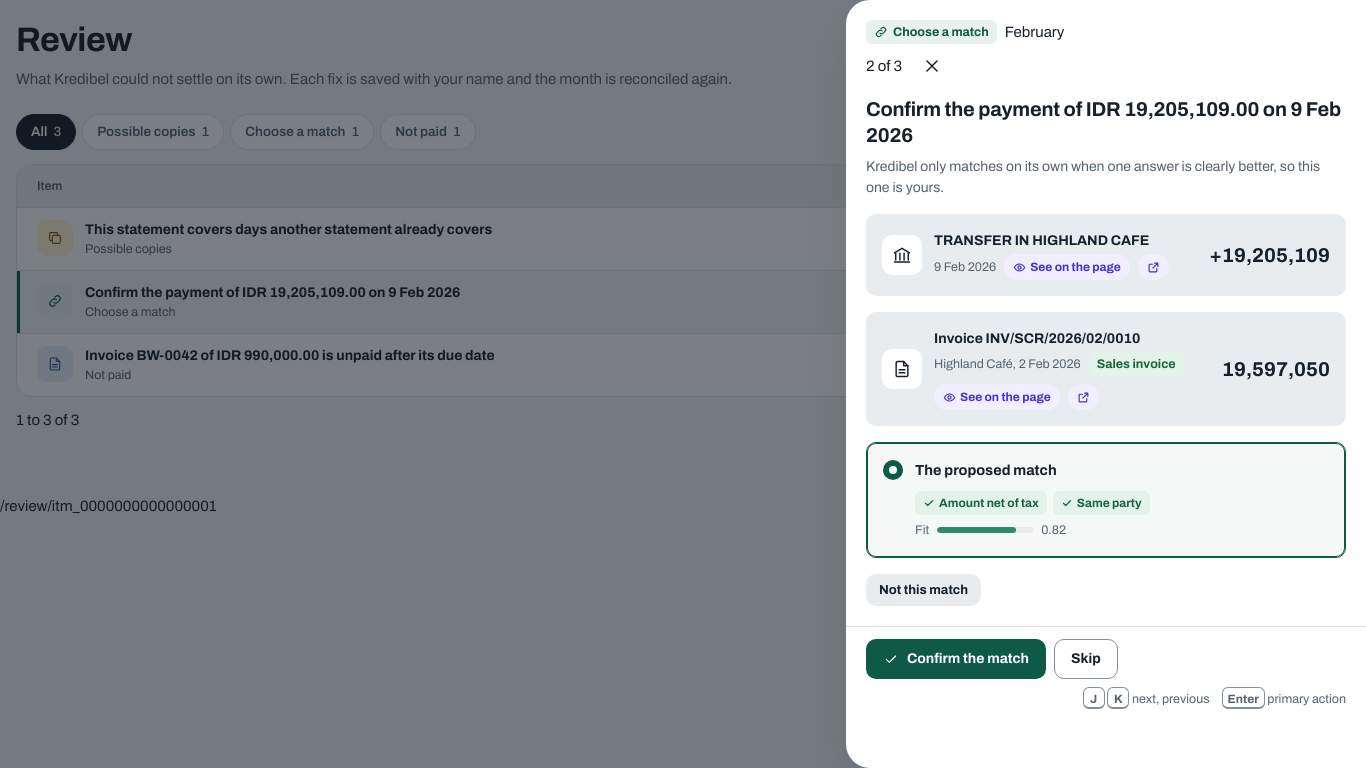
Scenario: ReviewPage › shows a proposal with its reasons and fit, and confirming opens the next item (AC-009-4, AC-009-7)
Check: the text "Choose a match" is shown, box [866,20,997,44]
Check: the text "TRANSFER IN HIGHLAND CAFE" is shown, box [934,233,1149,248]
Click the button "Confirm the match".
click(956, 659)  # box [866,639,1046,679]
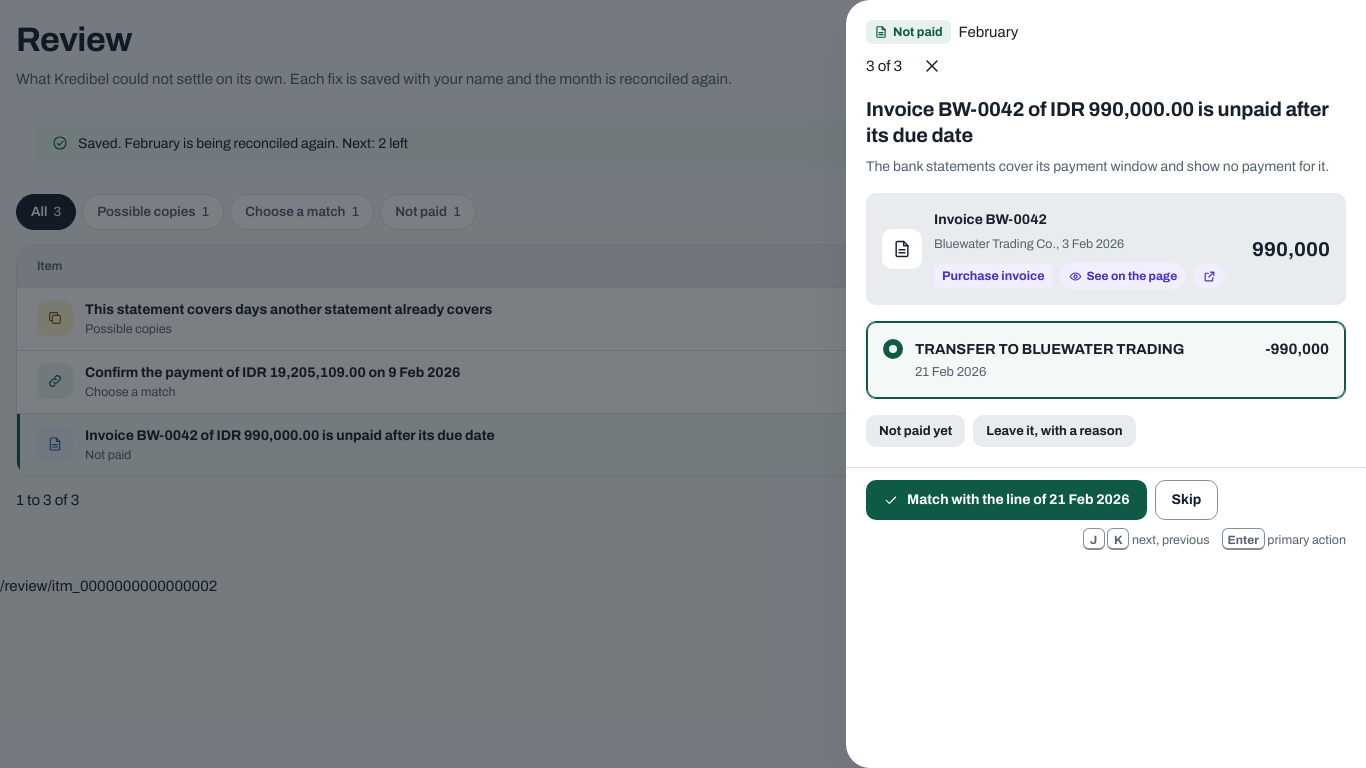
Check: the message reads "Saved. February is being reconciled again. Next: 2 left", box [78,136,408,151]
